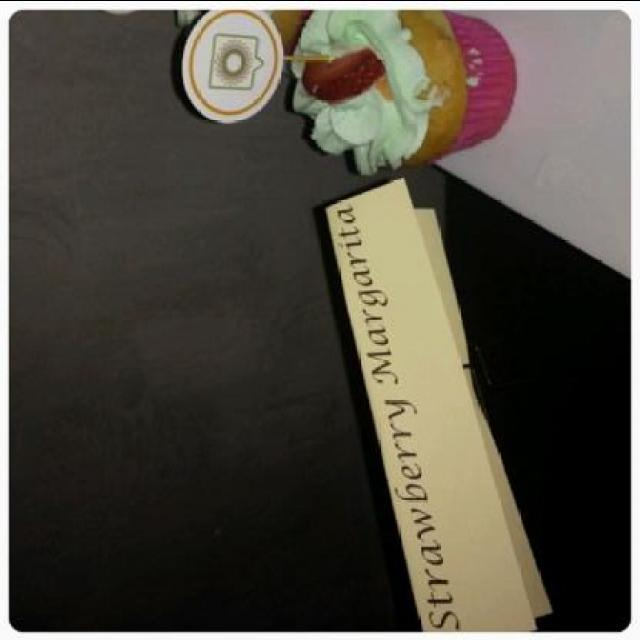Muffin: (280, 1, 516, 165)
